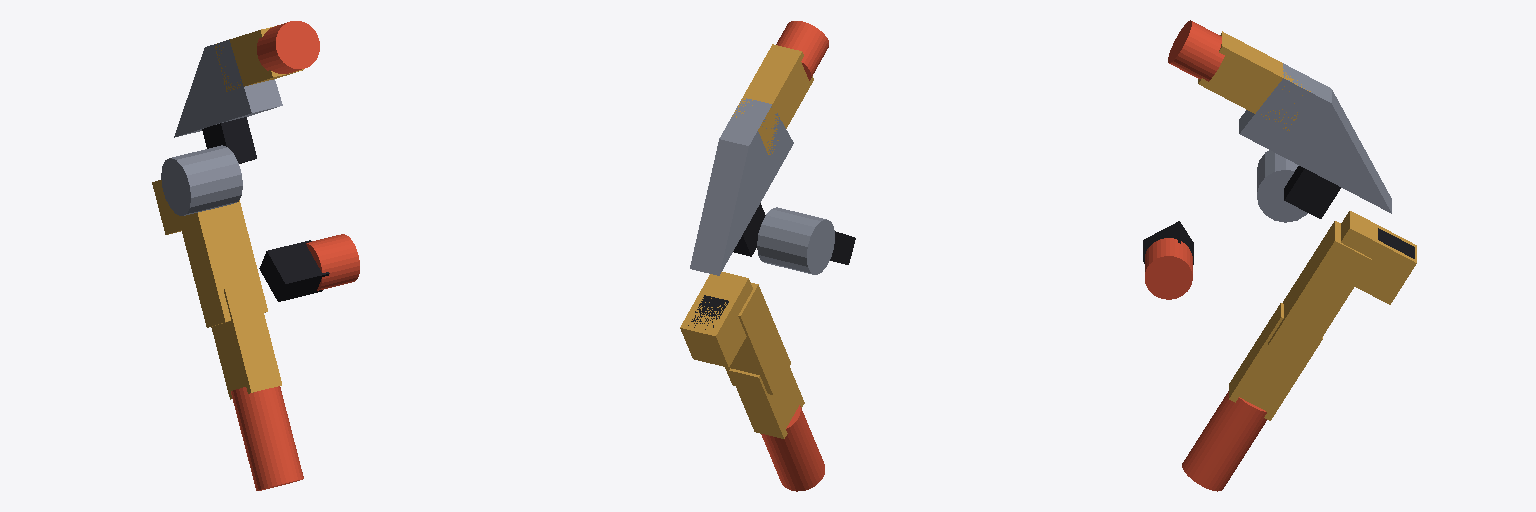
The robot description file, URDF, robot "g0053_c04":
<robot name="g0053_c04">
  <link name="palm">
    <visual name="palm_palm1">
      <origin xyz="0 0 0" rpy="0 0 0" />
      <geometry>
        <mesh filename="palm_palm1.obj" />
      </geometry>
      <material name="palm_palm1_mat">
        <color rgba="0.55 0.57 0.62 1" />
      </material>
    </visual>
    <collision>
      <origin xyz="0 0 0" rpy="0 0 0" />
      <geometry>
        <mesh filename="palm_palm1.obj" />
      </geometry>
    </collision>
    <visual name="palm_mount2">
      <origin xyz="0 0 0" rpy="0 0 0" />
      <geometry>
        <mesh filename="palm_mount2.obj" />
      </geometry>
      <material name="palm_mount2_mat">
        <color rgba="0.55 0.57 0.62 1" />
      </material>
    </visual>
    <collision>
      <origin xyz="0 0 0" rpy="0 0 0" />
      <geometry>
        <mesh filename="palm_mount2.obj" />
      </geometry>
    </collision>
    <visual name="palm_hinge3">
      <origin xyz="0 0.019910254 0.0144855716" rpy="-1.57079633 0.523598776 1.57079633" />
      <geometry>
        <box size="0.029 0.034 0.02" />
      </geometry>
      <material name="palm_hinge3_mat">
        <color rgba="0.15 0.15 0.17 1" />
      </material>
    </visual>
    <collision>
      <origin xyz="0 0.019910254 0.0144855716" rpy="-1.57079633 0.523598776 1.57079633" />
      <geometry>
        <box size="0.029 0.034 0.02" />
      </geometry>
    </collision>
    <visual name="palm_motor4">
      <origin xyz="-0.007 -0.08 -0.04" rpy="3.5352508e-17 -0.523598776 1.57079633" />
      <geometry>
        <box size="0.029 0.034 0.02" />
      </geometry>
      <material name="palm_motor4_mat">
        <color rgba="0.15 0.15 0.17 1" />
      </material>
    </visual>
    <collision>
      <origin xyz="-0.007 -0.08 -0.04" rpy="3.5352508e-17 -0.523598776 1.57079633" />
      <geometry>
        <box size="0.029 0.034 0.02" />
      </geometry>
    </collision>
    <visual name="palm_motor5">
      <origin xyz="-0.0045 0.0666996732 -0.0467548095" rpy="1.57079633 -0.523598776 -1.57079633" />
      <geometry>
        <box size="0.029 0.034 0.02" />
      </geometry>
      <material name="palm_motor5_mat">
        <color rgba="0.15 0.15 0.17 1" />
      </material>
    </visual>
    <collision>
      <origin xyz="-0.0045 0.0666996732 -0.0467548095" rpy="1.57079633 -0.523598776 -1.57079633" />
      <geometry>
        <box size="0.029 0.034 0.02" />
      </geometry>
    </collision>
    <inertial>
      <origin xyz="2.07834065e-19 -0.00620757602 -0.0223982201" rpy="1.57079633 0.169179628 1.57079633" />
      <mass value="0.594347411" />
      <inertia ixx="0.000444550986" ixy="0" ixz="0" iyy="0.00128817592" iyz="0" izz="0.00167566955" />
    </inertial>
  </link>
  <link name="palm0">
    <visual name="palm0_palm1">
      <origin xyz="0 0 0" rpy="0 0 0" />
      <geometry>
        <mesh filename="palm0_palm1.obj" />
      </geometry>
      <material name="palm0_palm1_mat">
        <color rgba="0.55 0.57 0.62 1" />
      </material>
    </visual>
    <collision>
      <origin xyz="0 0 0" rpy="0 0 0" />
      <geometry>
        <mesh filename="palm0_palm1.obj" />
      </geometry>
    </collision>
    <visual name="palm0_motor2">
      <origin xyz="0 -0.0171650635 0.0552692379" rpy="-1.57079633 -1.04719755 1.57079633" />
      <geometry>
        <box size="0.029 0.034 0.02" />
      </geometry>
      <material name="palm0_motor2_mat">
        <color rgba="0.15 0.15 0.17 1" />
      </material>
    </visual>
    <collision>
      <origin xyz="0 -0.0171650635 0.0552692379" rpy="-1.57079633 -1.04719755 1.57079633" />
      <geometry>
        <box size="0.029 0.034 0.02" />
      </geometry>
    </collision>
    <inertial>
      <origin xyz="3.60492069e-19 -0.00562587421 0.0327727604" rpy="1.57079633 0.756314173 1.57079633" />
      <mass value="0.171329203" />
      <inertia ixx="3.6927771e-05" ixy="0" ixz="0" iyy="0.000144838916" iyz="0" izz="0.000165319084" />
    </inertial>
  </link>
  <link name="f0_link0">
    <visual name="f0_link0_link1">
      <origin xyz="0.019 -1.38777878e-17 -2.60208521e-18" rpy="-1.57079633 -0 -1.57079633" />
      <geometry>
        <cylinder radius="0.0165" length="0.029" />
      </geometry>
      <material name="f0_link0_link1_mat">
        <color rgba="0.85 0.35 0.25 1" />
      </material>
    </visual>
    <collision>
      <origin xyz="0.019 -1.38777878e-17 -2.60208521e-18" rpy="-1.57079633 -0 -1.57079633" />
      <geometry>
        <cylinder radius="0.0165" length="0.029" />
      </geometry>
    </collision>
    <inertial>
      <origin xyz="0.019 0 0" rpy="0 0 0" />
      <mass value="0.0763354" />
      <inertia ixx="9.49466441e-06" ixy="0" ixz="0" iyy="2.24143997e-05" iyz="0" izz="2.24143997e-05" />
    </inertial>
  </link>
  <link name="f1_link0">
    <visual name="f1_link0_link1">
      <origin xyz="0.02375 0 0" rpy="0 7.03853194e-17 0" />
      <geometry>
        <box size="0.0715 0.024 0.033" />
      </geometry>
      <material name="f1_link0_link1_mat">
        <color rgba="0.80 0.62 0.30 1" />
      </material>
    </visual>
    <collision>
      <origin xyz="0.02375 0 0" rpy="0 7.03853194e-17 0" />
      <geometry>
        <box size="0.0715 0.024 0.033" />
      </geometry>
    </collision>
    <inertial>
      <origin xyz="0.02375 0 0" rpy="0 0 0" />
      <mass value="0.099099" />
      <inertia ixx="1.37499863e-05" ixy="0" ixz="0" iyy="5.12114728e-05" iyz="0" izz="4.69749906e-05" />
    </inertial>
  </link>
  <link name="f1_link1">
    <visual name="f1_link1_link1">
      <origin xyz="0.019 0 0" rpy="-1.57079633 -0 -1.57079633" />
      <geometry>
        <cylinder radius="0.0165" length="0.029" />
      </geometry>
      <material name="f1_link1_link1_mat">
        <color rgba="0.85 0.35 0.25 1" />
      </material>
    </visual>
    <collision>
      <origin xyz="0.019 0 0" rpy="-1.57079633 -0 -1.57079633" />
      <geometry>
        <cylinder radius="0.0165" length="0.029" />
      </geometry>
    </collision>
    <inertial>
      <origin xyz="0.019 0 0" rpy="0 0 0" />
      <mass value="0.0763354" />
      <inertia ixx="9.49466441e-06" ixy="0" ixz="0" iyy="2.24143997e-05" iyz="0" izz="2.24143997e-05" />
    </inertial>
  </link>
  <link name="f2_link0">
    <visual name="f2_link0_link1">
      <origin xyz="-0.00625 0 -0.0165" rpy="0 4.06369831e-17 0" />
      <geometry>
        <box size="0.0365 0.029 0.053" />
      </geometry>
      <material name="f2_link0_link1_mat">
        <color rgba="0.80 0.62 0.30 1" />
      </material>
    </visual>
    <collision>
      <origin xyz="-0.00625 0 -0.0165" rpy="0 4.06369831e-17 0" />
      <geometry>
        <box size="0.0365 0.029 0.053" />
      </geometry>
    </collision>
    <inertial>
      <origin xyz="-0.00625 0 -0.0165" rpy="0 0 0" />
      <mass value="0.098175875" />
      <inertia ixx="2.98618286e-05" ixy="0" ixz="0" iyy="3.38809035e-05" iyz="0" izz="1.778006e-05" />
    </inertial>
  </link>
  <link name="f2_link1">
    <visual name="f2_link1_link1">
      <origin xyz="0.03375 0 6.9388939e-18" rpy="0 4.06369831e-17 0" />
      <geometry>
        <box size="0.0915 0.033 0.029" />
      </geometry>
      <material name="f2_link1_link1_mat">
        <color rgba="0.80 0.62 0.30 1" />
      </material>
    </visual>
    <collision>
      <origin xyz="0.03375 0 6.9388939e-18" rpy="0 4.06369831e-17 0" />
      <geometry>
        <box size="0.0915 0.033 0.029" />
      </geometry>
    </collision>
    <inertial>
      <origin xyz="0.03375 0 0" rpy="0 0 0" />
      <mass value="0.153239625" />
      <inertia ixx="2.46460397e-05" ixy="0" ixz="0" iyy="0.000117652915" iyz="0" izz="0.000120819867" />
    </inertial>
  </link>
  <link name="f2_link2">
    <visual name="f2_link2_link1">
      <origin xyz="0.02375 0 -1.38777878e-17" rpy="0 4.06369831e-17 0" />
      <geometry>
        <box size="0.0715 0.024 0.033" />
      </geometry>
      <material name="f2_link2_link1_mat">
        <color rgba="0.80 0.62 0.30 1" />
      </material>
    </visual>
    <collision>
      <origin xyz="0.02375 0 -1.38777878e-17" rpy="0 4.06369831e-17 0" />
      <geometry>
        <box size="0.0715 0.024 0.033" />
      </geometry>
    </collision>
    <inertial>
      <origin xyz="0.02375 0 0" rpy="0 0 0" />
      <mass value="0.099099" />
      <inertia ixx="1.37499863e-05" ixy="0" ixz="0" iyy="5.12114728e-05" iyz="0" izz="4.69749906e-05" />
    </inertial>
  </link>
  <link name="f2_link3">
    <visual name="f2_link3_link1">
      <origin xyz="0.039 0 -3.46944695e-18" rpy="-1.57079633 -0 -1.57079633" />
      <geometry>
        <cylinder radius="0.0165" length="0.069" />
      </geometry>
      <material name="f2_link3_link1_mat">
        <color rgba="0.85 0.35 0.25 1" />
      </material>
    </visual>
    <collision>
      <origin xyz="0.039 0 -3.46944695e-18" rpy="-1.57079633 -0 -1.57079633" />
      <geometry>
        <cylinder radius="0.0165" length="0.069" />
      </geometry>
    </collision>
    <inertial>
      <origin xyz="0.039 0 0" rpy="0 0 0" />
      <mass value="0.136206302" />
      <inertia ixx="1.76445909e-05" ixy="0" ixz="0" iyy="0.000104842911" iyz="0" izz="0.000104842911" />
    </inertial>
  </link>
  <joint name="palm0_joint" type="revolute">
    <parent link="palm" />
    <child link="palm0" />
    <origin xyz="0 0.023660254 0.0209807621" rpy="0 0 0" />
    <axis xyz="0 0.866025404 -0.5" />
    <limit effort="0.5" lower="-0.523598776" upper="0.523598776" velocity="5" />
    <dynamics damping="0.0775033" friction="0" />
  </joint>
  <joint name="f0_j0" type="revolute">
    <parent link="palm" />
    <child link="f0_link0" />
    <origin xyz="0.0005 -0.08 -0.04" rpy="0.523598776 3.061617e-17 -5.30287619e-17" />
    <axis xyz="0 1 6.123234e-17" />
    <limit effort="0.5" lower="-0.523598776" upper="0.523598776" velocity="5" />
    <dynamics damping="0.0775033" friction="0" />
  </joint>
  <joint name="f1_j0" type="revolute">
    <parent link="palm0" />
    <child link="f1_link0" />
    <origin xyz="0 -0.023660254 0.0590192379" rpy="-0 -0.523598776 -1.57079633" />
    <axis xyz="0 0 1" />
    <limit effort="0.5" lower="-0.523598776" upper="1.57079633" velocity="5" />
    <dynamics damping="0.0775033" friction="0" />
  </joint>
  <joint name="f1_j1" type="revolute">
    <parent link="f1_link0" />
    <child link="f1_link1" />
    <origin xyz="0.05 0 0" rpy="0 0 0" />
    <axis xyz="0 0 1" />
    <limit effort="0.5" lower="-0.523598776" upper="1.57079633" velocity="5" />
    <dynamics damping="0.0775033" friction="0" />
  </joint>
  <joint name="f2_j0" type="revolute">
    <parent link="palm" />
    <child link="f2_link0" />
    <origin xyz="-0.0045 0.04 -0.04" rpy="0 1.04719755 -1.57079633" />
    <axis xyz="0 0 1" />
    <limit effort="0.5" lower="-0.523598776" upper="1.57079633" velocity="5" />
    <dynamics damping="0.0775033" friction="0" />
  </joint>
  <joint name="f2_j1" type="revolute">
    <parent link="f2_link0" />
    <child link="f2_link1" />
    <origin xyz="0 0 0" rpy="0 0 0" />
    <axis xyz="0 1 6.123234e-17" />
    <limit effort="0.5" lower="-0.523598776" upper="0.523598776" velocity="5" />
    <dynamics damping="0.0775033" friction="0" />
  </joint>
  <joint name="f2_j2" type="revolute">
    <parent link="f2_link1" />
    <child link="f2_link2" />
    <origin xyz="0.07 0 0" rpy="0 0 0" />
    <axis xyz="0 0 1" />
    <limit effort="0.5" lower="-0.523598776" upper="1.57079633" velocity="5" />
    <dynamics damping="0.0775033" friction="0" />
  </joint>
  <joint name="f2_j3" type="revolute">
    <parent link="f2_link2" />
    <child link="f2_link3" />
    <origin xyz="0.05 0 0" rpy="0 0 0" />
    <axis xyz="0 0 1" />
    <limit effort="0.5" lower="-0.523598776" upper="1.57079633" velocity="5" />
    <dynamics damping="0.0775033" friction="0" />
  </joint>
</robot>

--- Facts derived from the render (not from the file) ---
3 views of the same robot in one strip: view 1: azimuth 30°, elevation 25°; view 2: azimuth 150°, elevation 25°; view 3: azimuth 270°, elevation 25° (orthographic).
Model g0053_c04 with 9 links and 8 joints (8 revolute), rooted at palm, posed every joint at zero.
Visible links, largest first — view 1: palm, f2_link1, palm0, f2_link2, f2_link3, f1_link1, f0_link0, f1_link0, f2_link0; view 2: palm0, palm, f2_link0, f1_link0, f2_link1, f2_link2, f2_link3, f1_link1; view 3: palm0, f2_link1, palm, f2_link3, f2_link2, f1_link0, f2_link0, f0_link0, f1_link1.
Boxes of the visible links, x1=… form: palm: x1=161, y1=117, x2=329, y2=301; f2_link1: x1=178, y1=200, x2=267, y2=327; palm0: x1=174, y1=40, x2=282, y2=137; f2_link2: x1=211, y1=282, x2=281, y2=399; f2_link3: x1=231, y1=386, x2=303, y2=490; f1_link1: x1=257, y1=21, x2=319, y2=73; f0_link0: x1=306, y1=234, x2=359, y2=290; f1_link0: x1=215, y1=26, x2=303, y2=91; f2_link0: x1=152, y1=180, x2=181, y2=234; palm0: x1=690, y1=98, x2=793, y2=275; palm: x1=688, y1=203, x2=855, y2=329; f2_link0: x1=680, y1=272, x2=752, y2=367; f1_link0: x1=732, y1=44, x2=813, y2=154; f2_link1: x1=725, y1=283, x2=790, y2=394; f2_link2: x1=729, y1=367, x2=804, y2=438; f2_link3: x1=761, y1=405, x2=824, y2=491; f1_link1: x1=776, y1=21, x2=828, y2=80; palm0: x1=1239, y1=63, x2=1391, y2=213; f2_link1: x1=1268, y1=221, x2=1371, y2=364; palm: x1=1143, y1=150, x2=1414, y2=264; f2_link3: x1=1182, y1=391, x2=1266, y2=491; f2_link2: x1=1229, y1=303, x2=1322, y2=420; f1_link0: x1=1198, y1=31, x2=1310, y2=130; f2_link0: x1=1341, y1=211, x2=1416, y2=304; f0_link0: x1=1145, y1=238, x2=1192, y2=299; f1_link1: x1=1168, y1=20, x2=1224, y2=81.
Size in the robot's own frame: 0.086 by 0.187 by 0.3519 metres.
Meshes: 3 distinct files referenced, 2 mesh visuals loaded (2 OBJ); not drawn: 1 (reference not matched to a file when rendering).
